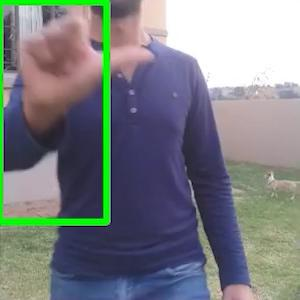land_hand: (10, 0, 155, 107)
